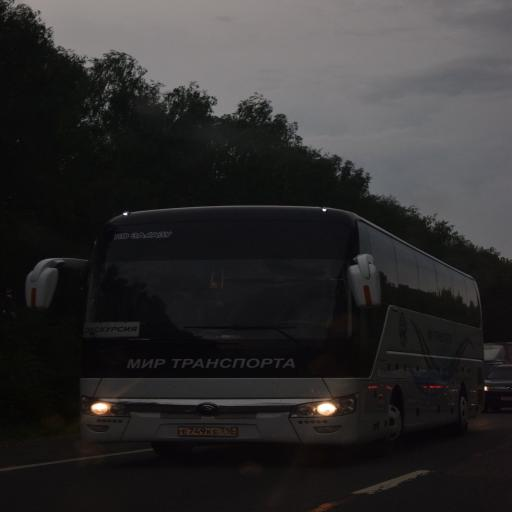bicycle: (27, 207, 484, 454)
